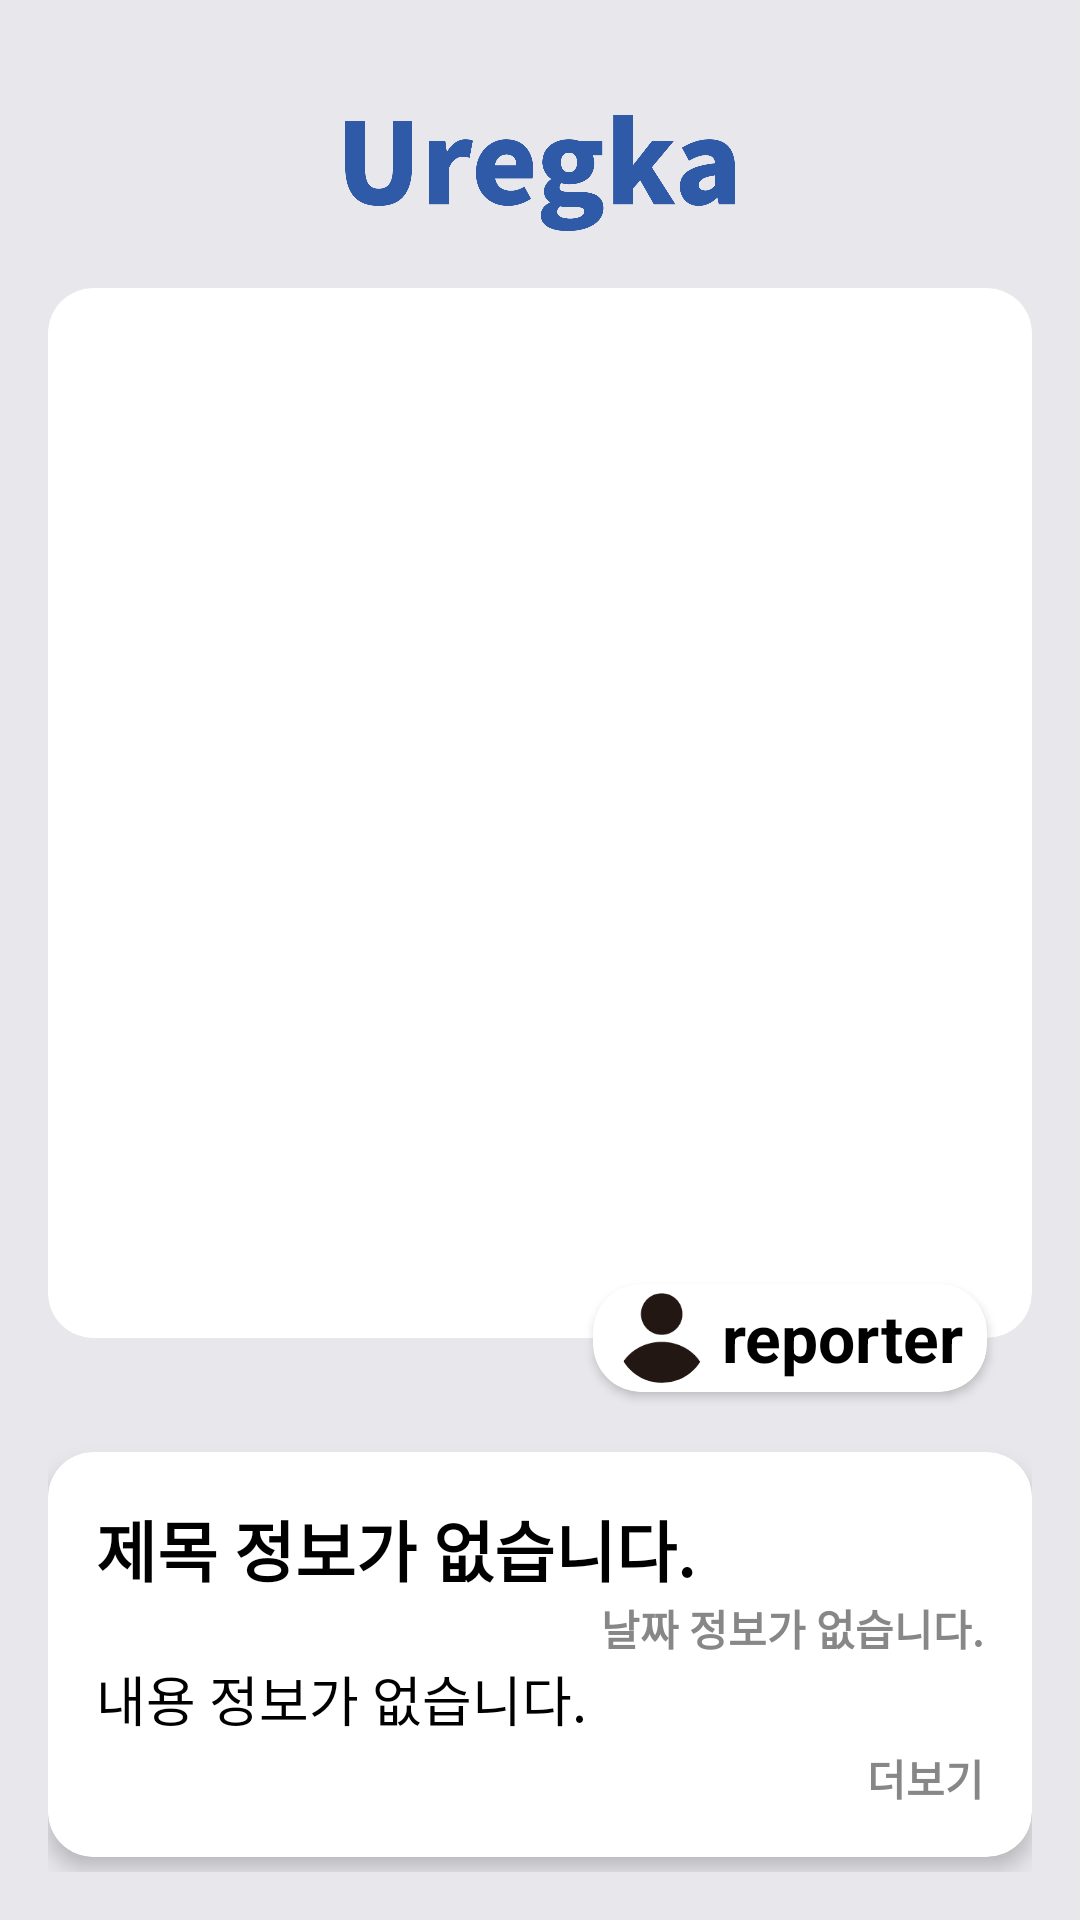

Point at icon controls on the screen. Image size 1080*1920, points as point (x, y).
user: point (661, 1338)
